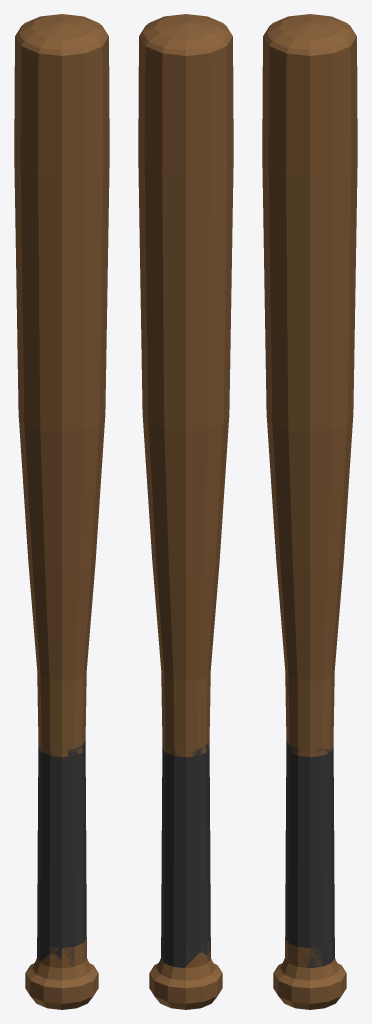
File: Baseballbat_broken.fbx
3 renders of one model, left to right at view 1: azimuth 90°, elevation 25°; view 2: azimuth 150°, elevation 25°; view 3: azimuth 270°, elevation 25°, orthographic.
Parts seen in each view (by area): view 1: Bat, Bat_cell.003, Bat_cell.006, Bat_cell.008, Bat_cell.007, Bat_cell.001, Bat_cell.005, Bat_cell.009, Bat_cell.004, Bat_cell, Bat_cell.002; view 2: Bat, Bat_cell.005, Bat_cell.001, Bat_cell.003, Bat_cell, Bat_cell.006, Bat_cell.009, Bat_cell.004, Bat_cell.007, Bat_cell.008; view 3: Bat, Bat_cell.003, Bat_cell.006, Bat_cell.008, Bat_cell.005, Bat_cell.007, Bat_cell.001, Bat_cell.009.
Part boxes in pixels (x1=…): Bat: x1=14, y1=14, x2=98, y2=1009; Bat_cell.003: x1=43, y1=282, x2=107, y2=586; Bat_cell.006: x1=62, y1=103, x2=109, y2=302; Bat_cell.008: x1=68, y1=576, x2=94, y2=857; Bat_cell.007: x1=69, y1=16, x2=109, y2=119; Bat_cell.001: x1=41, y1=583, x2=68, y2=861; Bat_cell.005: x1=29, y1=853, x2=73, y2=967; Bat_cell.009: x1=31, y1=15, x2=74, y2=124; Bat_cell.004: x1=40, y1=954, x2=77, y2=1009; Bat_cell: x1=25, y1=961, x2=55, y2=1008; Bat_cell.002: x1=54, y1=930, x2=91, y2=999; Bat: x1=138, y1=14, x2=232, y2=1008; Bat_cell.005: x1=149, y1=849, x2=210, y2=992; Bat_cell.001: x1=164, y1=577, x2=216, y2=862; Bat_cell.003: x1=214, y1=282, x2=231, y2=578; Bat_cell: x1=152, y1=966, x2=209, y2=1009; Bat_cell.006: x1=225, y1=102, x2=233, y2=292; Bat_cell.009: x1=143, y1=24, x2=230, y2=113; Bat_cell.004: x1=186, y1=952, x2=217, y2=1004; Bat_cell.007: x1=170, y1=15, x2=233, y2=104; Bat_cell.008: x1=208, y1=599, x2=215, y2=850; Bat: x1=272, y1=14, x2=357, y2=1009; Bat_cell.003: x1=264, y1=282, x2=318, y2=591; Bat_cell.006: x1=262, y1=103, x2=309, y2=305; Bat_cell.008: x1=277, y1=576, x2=317, y2=857; Bat_cell.005: x1=293, y1=853, x2=343, y2=1009; Bat_cell.007: x1=262, y1=16, x2=309, y2=113; Bat_cell.001: x1=316, y1=581, x2=338, y2=857; Bat_cell.009: x1=306, y1=14, x2=340, y2=54.
Bounding box in the file's own units: 3.23 × 36.38 × 3.23.
